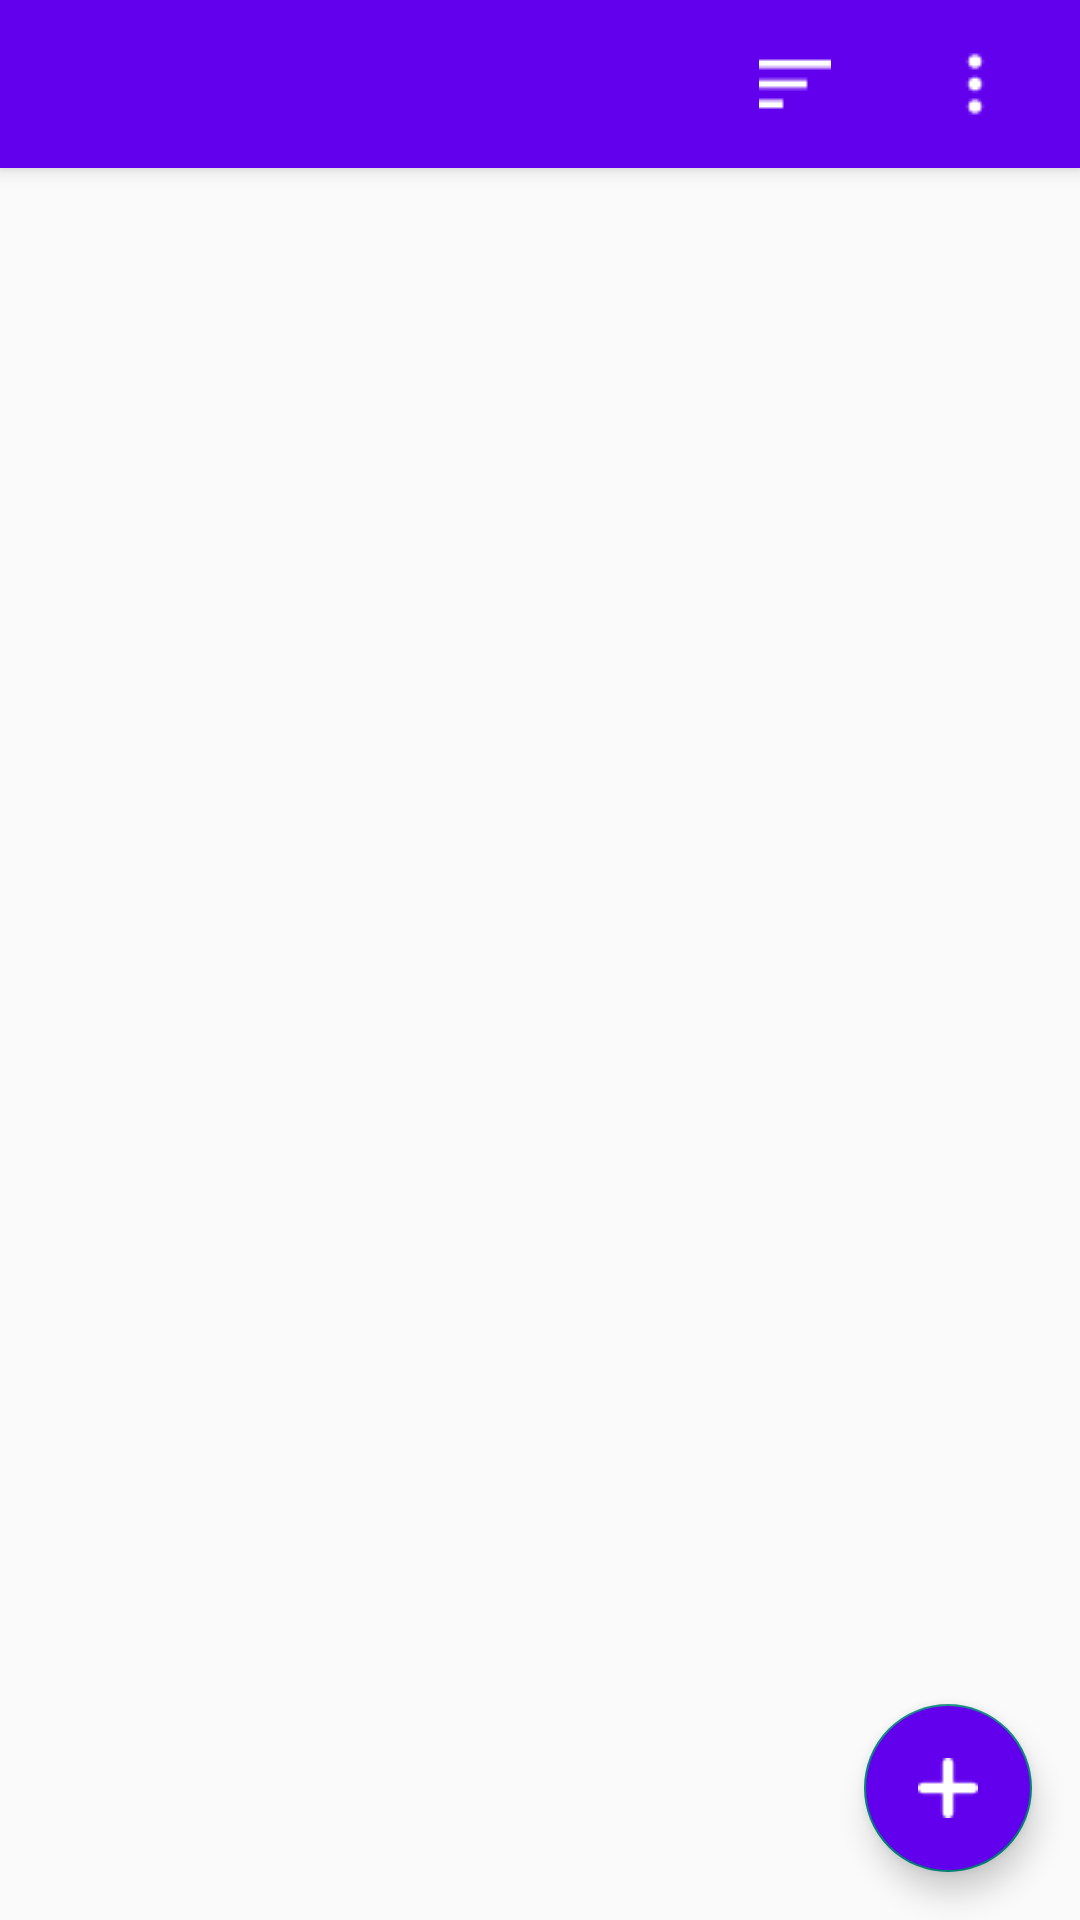

Where to tap for icons on this 1080x1920 app screen, as (x,y):
Add a new Song: (948,1788)
Shows Dialog: (975,84)
Sorts the songs: (795,84)
